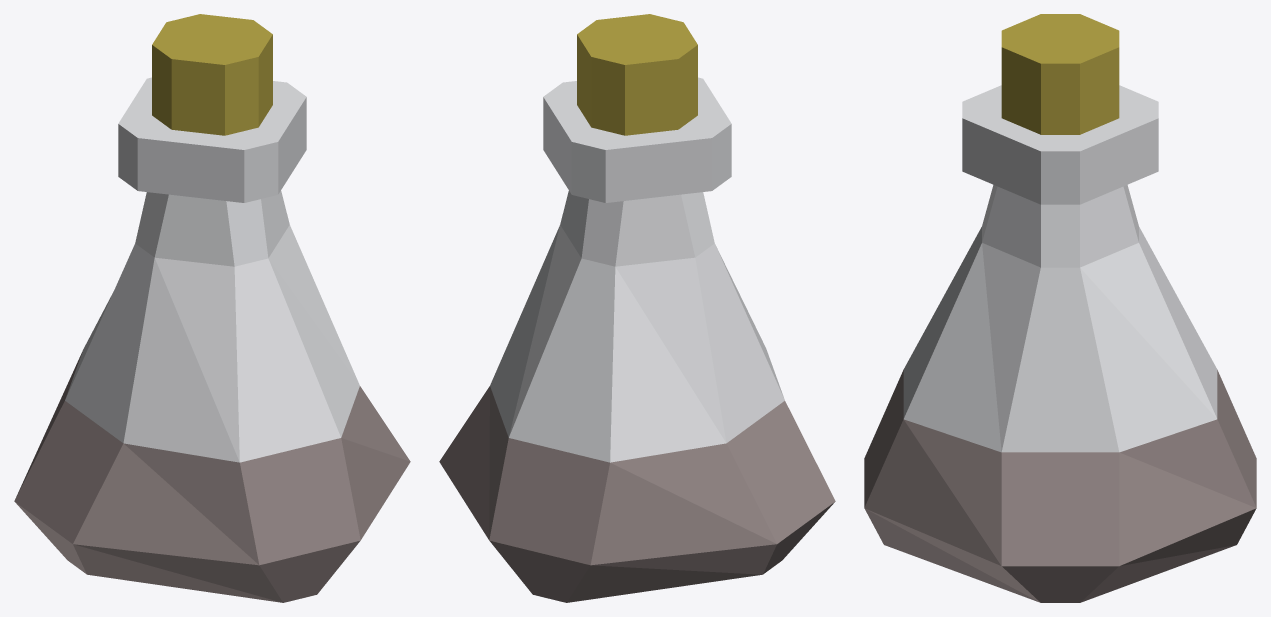
File: inv_zamorak_potion_2.obj
3 views of the same model, side by side, from view 1: azimuth 30°, elevation 25°; view 2: azimuth 150°, elevation 25°; view 3: azimuth 270°, elevation 25° (orthographic).
Size of the model in its own units: 0.1562 by 0.2188 by 0.1562.
